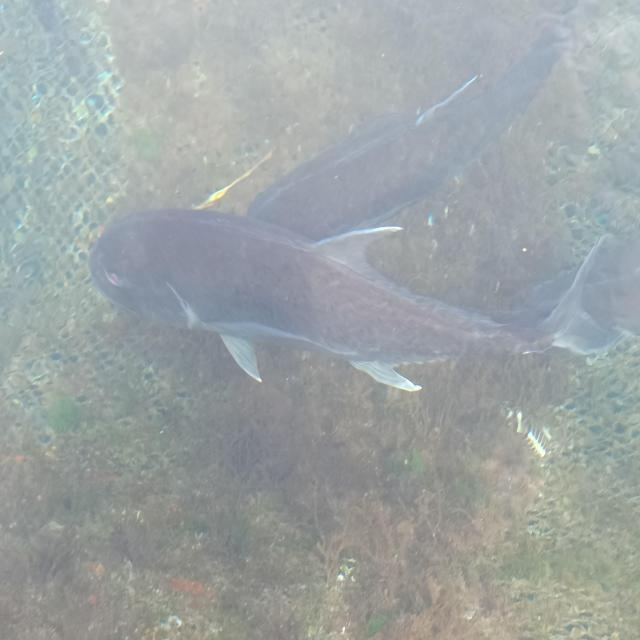ikan: (77, 192, 626, 406)
